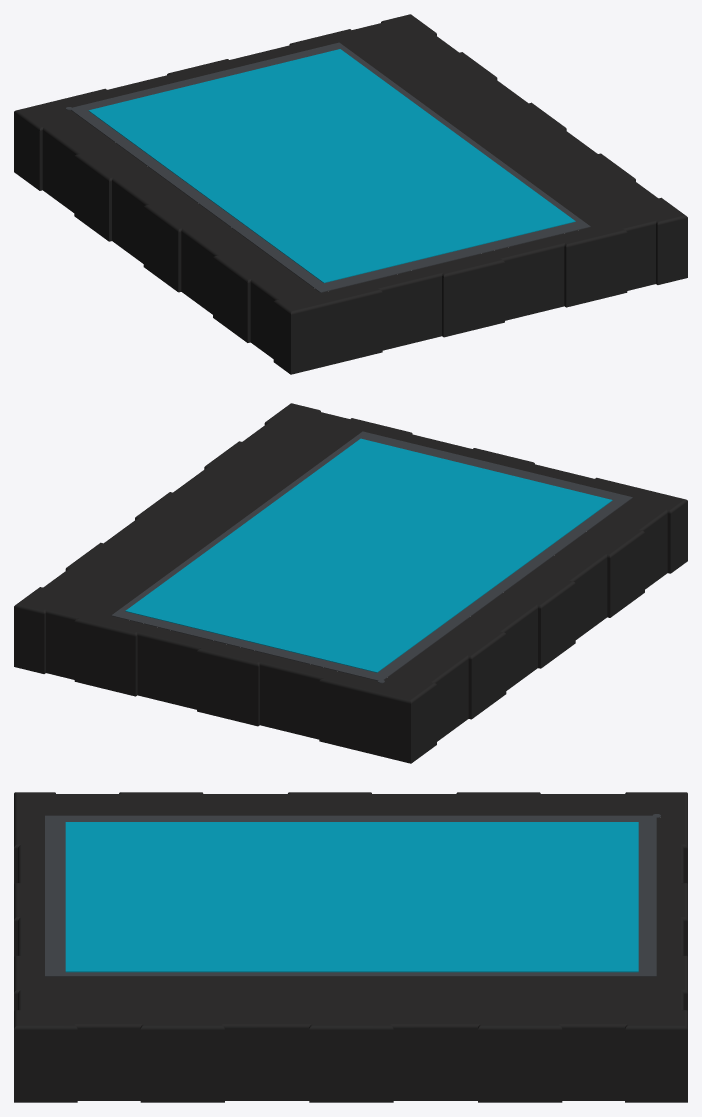
Rendered from kc-ea_edip160-xxx.glb.
The picture shows the model from 3 angles, top to bottom: view 1: azimuth 30°, elevation 25°; view 2: azimuth 150°, elevation 25°; view 3: azimuth 270°, elevation 25°; orthographic projection. The views are drawn at different scales.
Parts seen in each view (by area): view 1: 0_0_0_0, 0_0.3333333333333333_0.5_0, 0.08333333333333333_0.08333333333333333_0.08333333333333333_; view 2: 0_0_0_0, 0_0.3333333333333333_0.5_0, 0.08333333333333333_0.08333333333333333_0.08333333333333333_; view 3: 0_0_0_0, 0_0.3333333333333333_0.5_0, 0.08333333333333333_0.08333333333333333_0.08333333333333333_.
Boxes of the visible parts, x1,y1,x2,y2 form: 0_0_0_0: [14, 14, 687, 374]; 0_0.3333333333333333_0.5_0: [88, 49, 575, 282]; 0.08333333333333333_0.08333333333333333_0.08333333333333333_: [66, 42, 590, 292]; 0_0_0_0: [14, 403, 687, 763]; 0_0.3333333333333333_0.5_0: [125, 438, 612, 672]; 0.08333333333333333_0.08333333333333333_0.08333333333333333_: [111, 431, 632, 683]; 0_0_0_0: [14, 792, 687, 1102]; 0_0.3333333333333333_0.5_0: [65, 822, 638, 972]; 0.08333333333333333_0.08333333333333333_0.08333333333333333_: [45, 814, 660, 976].
Bounding box in the file's own units: 6.75 × 1.52 × 8.15.
